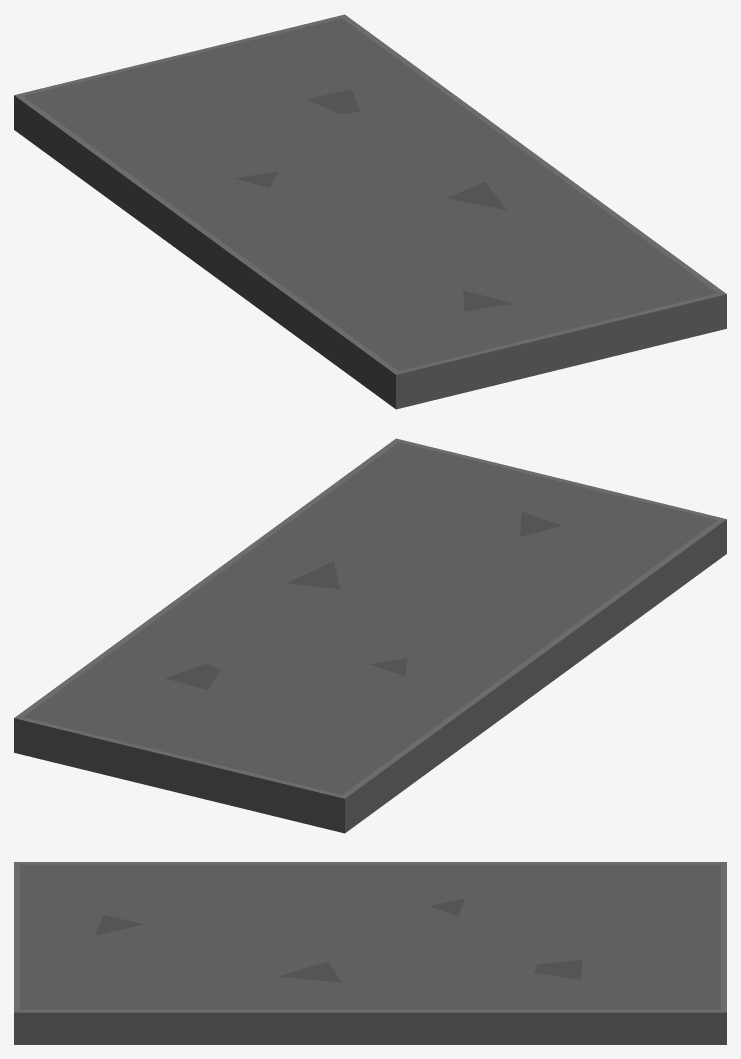
Rendered from ConcrateSlabs_B_3_2.fbx.
3 views of the same model, one above another, from view 1: azimuth 30°, elevation 25°; view 2: azimuth 150°, elevation 25°; view 3: azimuth 270°, elevation 25° (orthographic). The views are drawn at different scales.
Visible parts, largest first — view 1: ConcrateSlabs_B_3_2; view 2: ConcrateSlabs_B_3_2; view 3: ConcrateSlabs_B_3_2.
Boxes of the visible parts, x1,y1,x2,y2 form: ConcrateSlabs_B_3_2: (14, 14, 726, 409); ConcrateSlabs_B_3_2: (14, 438, 726, 833); ConcrateSlabs_B_3_2: (14, 862, 726, 1044).
Size of the model in its own units: 400 by 40 by 800.
